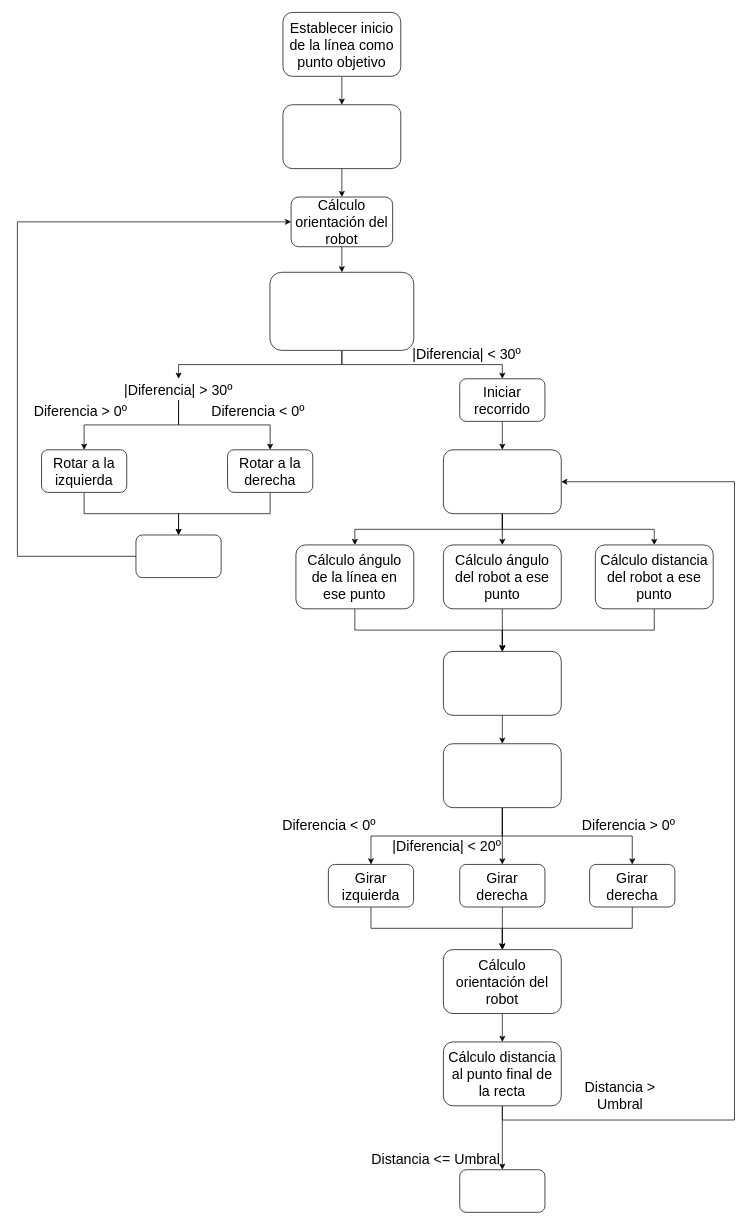
This 753x1225 diagram has some shape labels left out. Each missing label, with the centre of its shape:
Avanzar/ Retroceder: the point at 178,556
Cálculo diferencia del ángulo de la línea y la orientación del robot: the point at 341,311
Cálculo diferencia entre esa orientación y la del robot: the point at 502,775
Cálculo orientación que debe llevar el robot: the point at 502,683
Cálculo punto más cercano de la línea: the point at 502,481
Ejecutar algoritmo de llegar a un punto: the point at 341,136
Fin: the point at 502,1190
